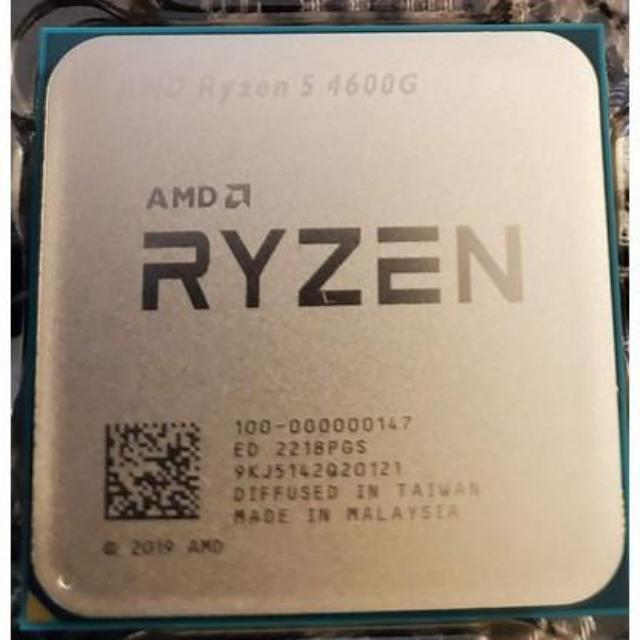CPU: (34, 32, 628, 620)
